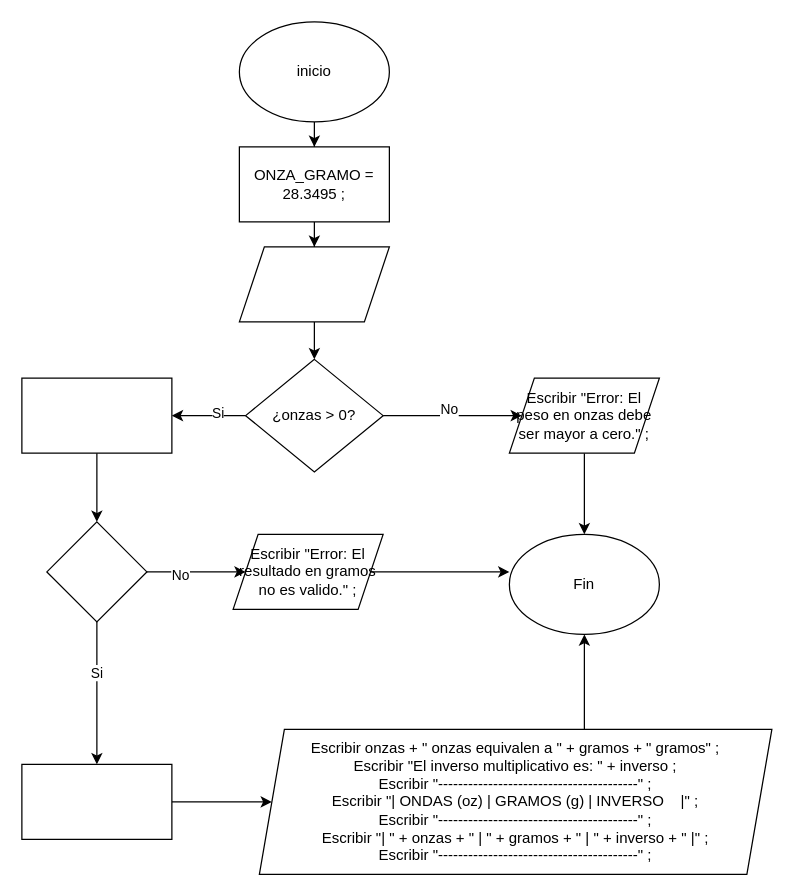
This 794x896 diagram has some shape labels left out. The centre of each missing label's shape, as x and y in pixels:
"gramos = onzas * ONZA_GRAMO ;" goes at (x=96, y=415).
"inverso = 1 / gramos" goes at (x=96, y=801).
"Leer onzas ;" goes at (x=313, y=284).
"¿gramos > 0?" goes at (x=96, y=571).
